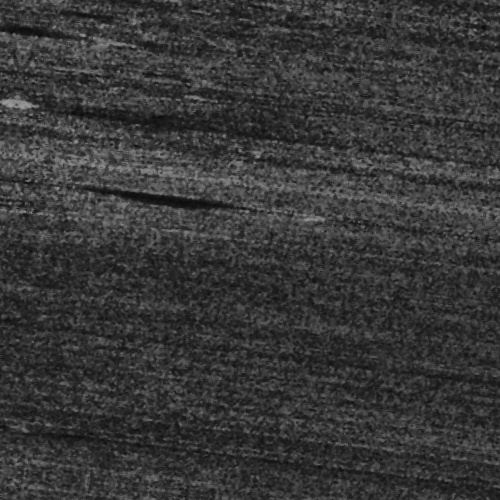object: (13, 51, 96, 60), (0, 2, 69, 11), (0, 122, 16, 137), (34, 451, 65, 454), (282, 206, 293, 211)
shadow: (0, 51, 55, 60), (196, 206, 287, 211), (0, 2, 22, 11), (26, 451, 49, 454)
